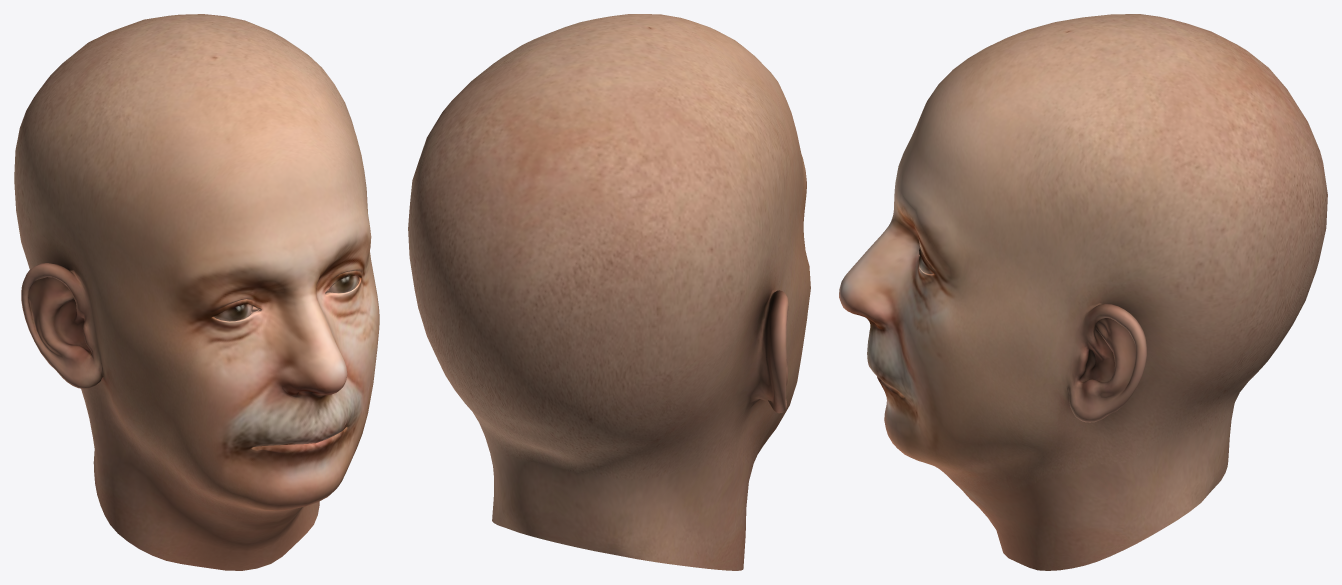
Rendered from boyAvatar2.glb.
3 renders of one model, left to right at view 1: azimuth 30°, elevation 25°; view 2: azimuth 150°, elevation 25°; view 3: azimuth 270°, elevation 25°, orthographic. The views are drawn at different scales.
Parts seen in each view (by area): view 1: Head; view 2: Head; view 3: Head.
Boxes of the visible parts, x1,y1,x2,y2 form: Head: (14,14,379,570); Head: (408,14,810,570); Head: (839,14,1327,570).
Bounding box in the file's own units: 0.1912 × 0.2715 × 0.2339.
1 material, 1 textured.
